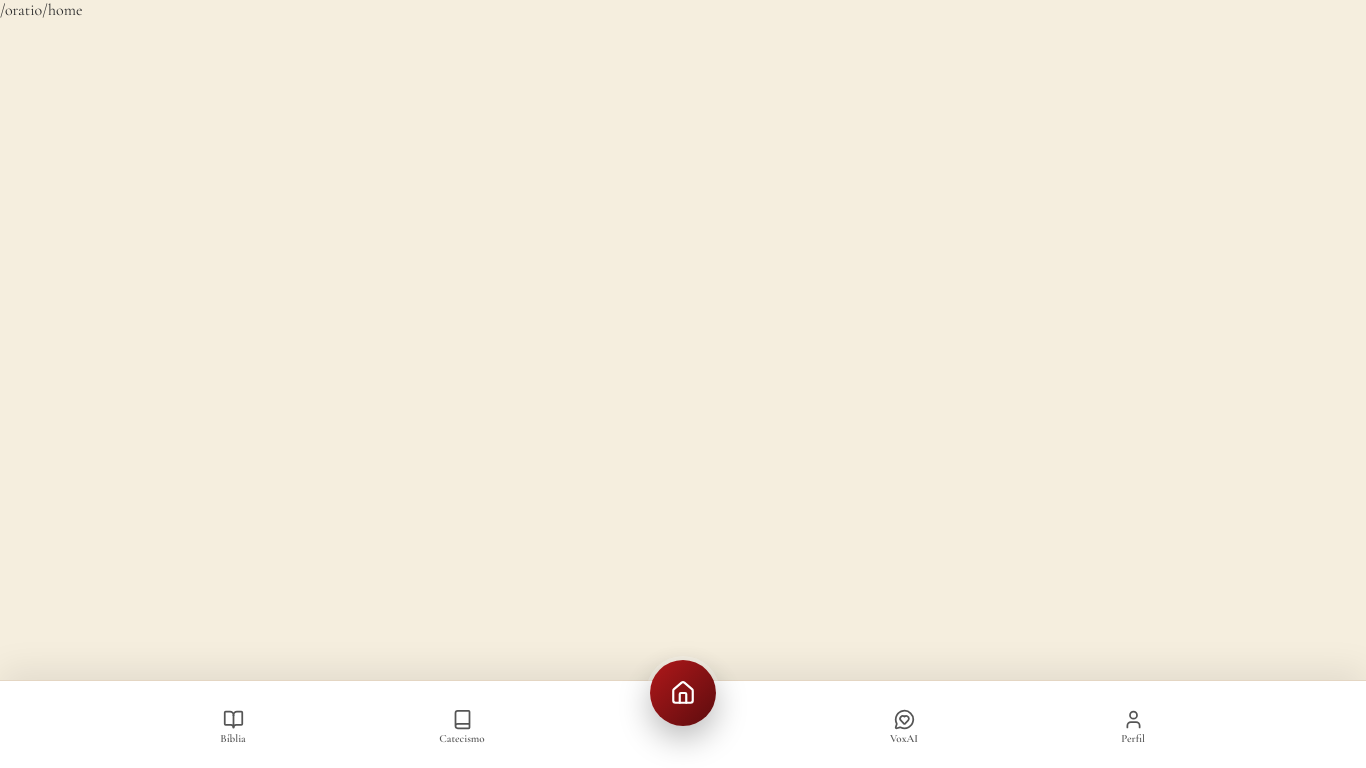
BottomNavbar › blocks a locked item for a guest with the account-gate modal instead of navigating
The image size is (1366, 768).
Click the button with aria-label "Abrir Perfil".
click(1133, 726)  # box [1099,703,1167,750]
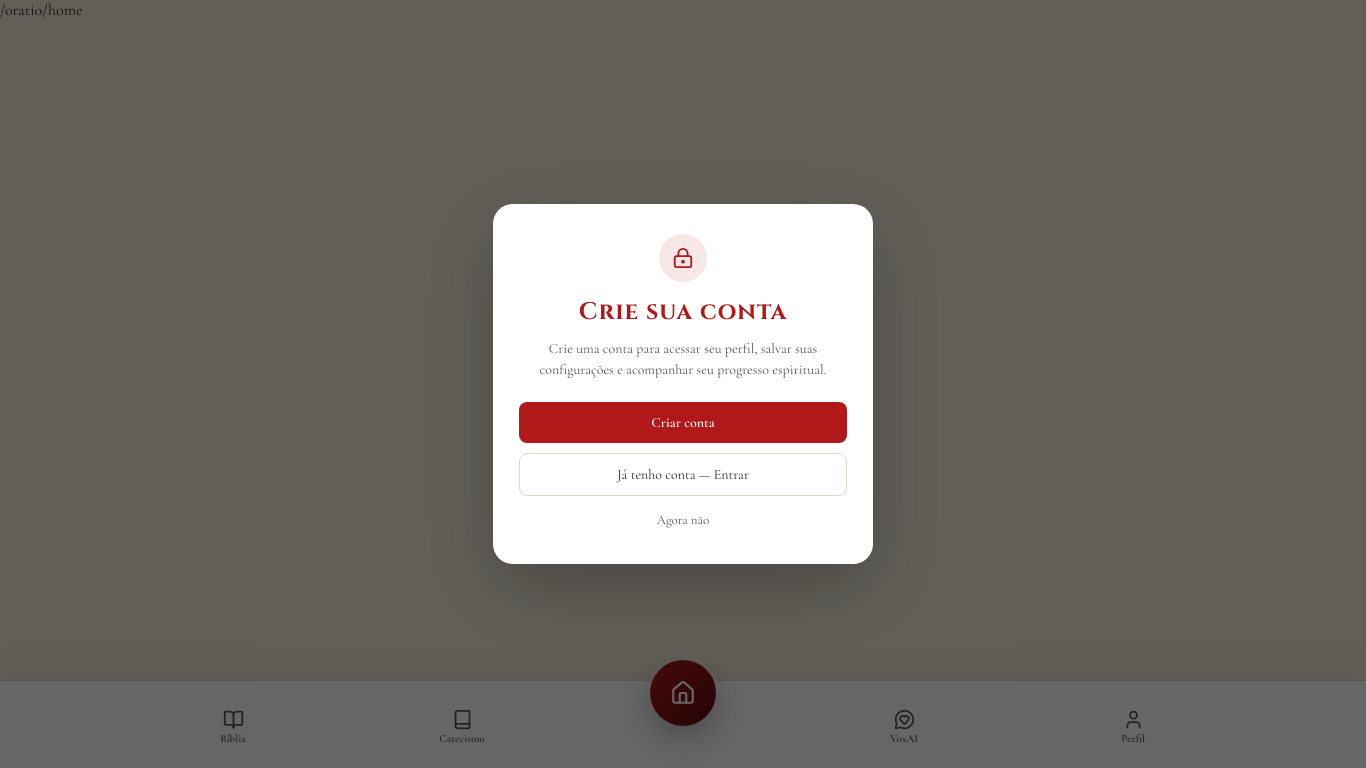
Expected: the text with test id "location" reads "/oratio/home", [0,0,82,20]
Expected: the text "acessar seu perfil" is shown, [540,340,826,378]
